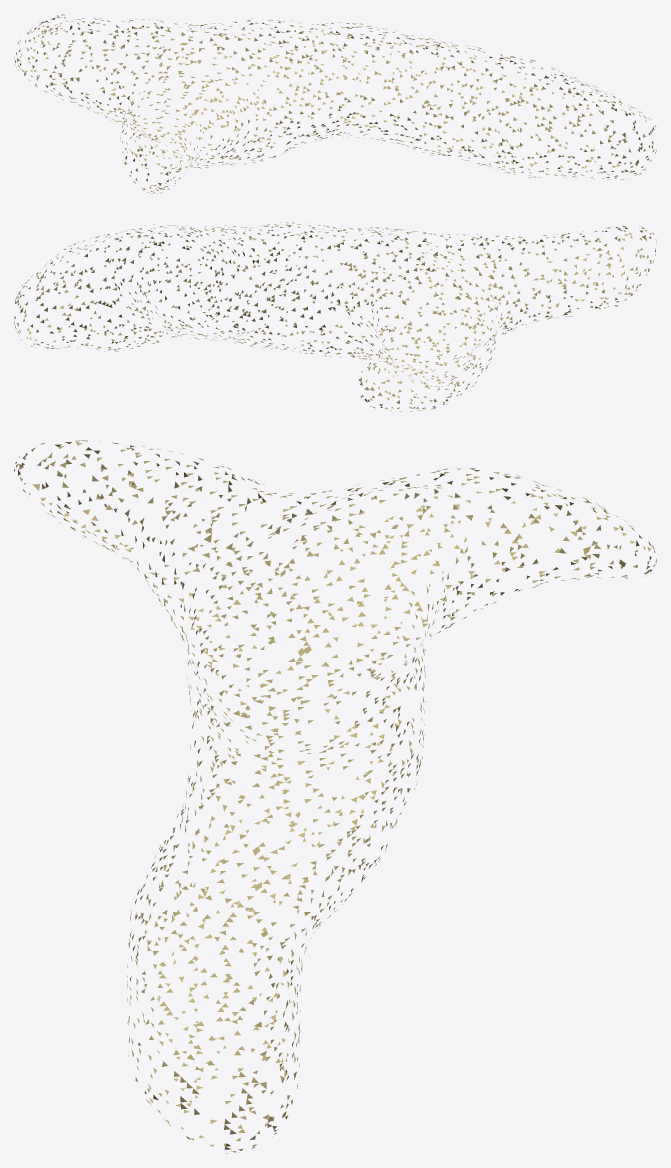
File: morph_008.glb
3 renders of one model, top to bottom at view 1: azimuth 30°, elevation 25°; view 2: azimuth 150°, elevation 25°; view 3: azimuth 270°, elevation 25°, orthographic. The views are drawn at different scales.
Size of the model in its own units: 102 by 37.92 by 65.67.
